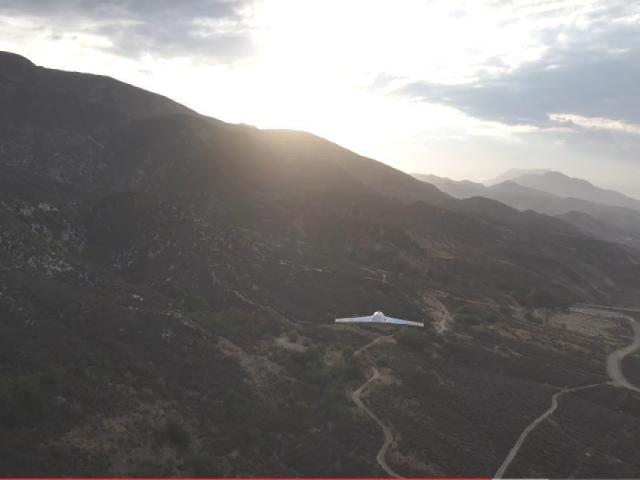iha: (335, 308, 425, 333)
